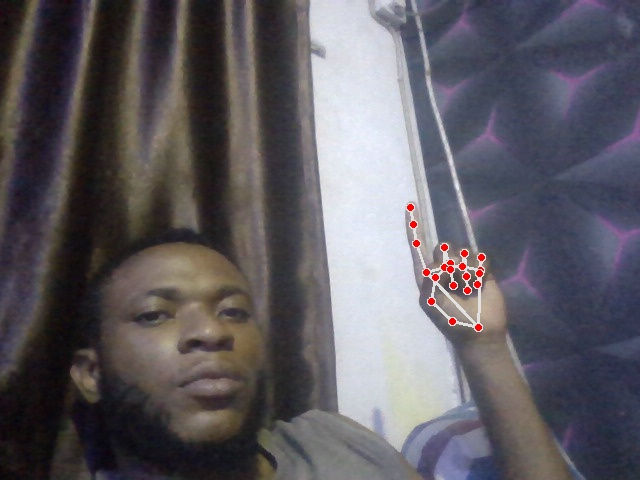number1: (404, 200, 512, 337)
